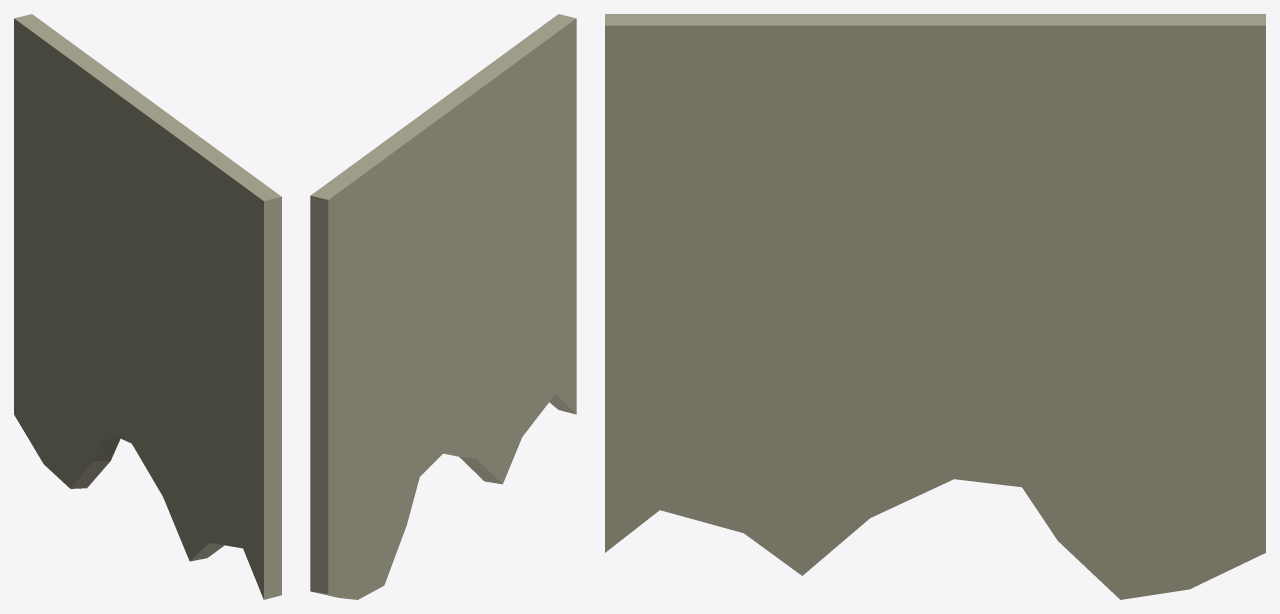
The model's file is HalfWallBrokenDebris.fbx.
The picture shows the model from 3 angles, left to right: view 1: azimuth 30°, elevation 25°; view 2: azimuth 150°, elevation 25°; view 3: azimuth 270°, elevation 25°; orthographic projection. The views are drawn at different scales.
Parts seen in each view (by area): view 1: HalfWallBrokenDebris; view 2: HalfWallBrokenDebris; view 3: HalfWallBrokenDebris.
Part boxes in pixels (<box>): HalfWallBrokenDebris: <box>14,14,281,599</box>; HalfWallBrokenDebris: <box>310,14,576,599</box>; HalfWallBrokenDebris: <box>605,14,1265,599</box>.
Bounding box in the file's own units: 0.25 × 5.75 × 6.
